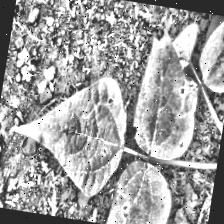ALS: (7, 62, 135, 197), (134, 30, 212, 161), (87, 152, 179, 224)
